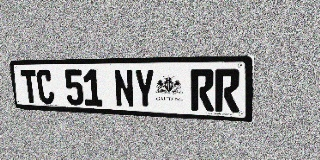1: (82, 69, 103, 106)
5: (64, 70, 85, 106)
C: (36, 70, 55, 104)
N: (113, 69, 135, 108)
R: (215, 69, 240, 112), (190, 69, 214, 111)
T: (20, 70, 39, 104)
Y: (134, 69, 156, 109)
